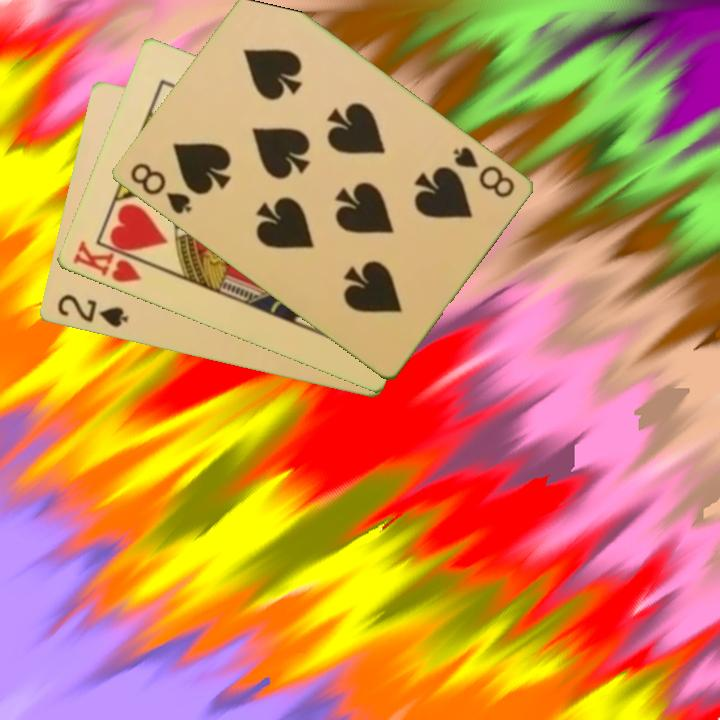2s: (53, 291, 131, 331)
8s: (126, 159, 194, 218), (448, 143, 517, 201)
Kh: (69, 237, 154, 286)
